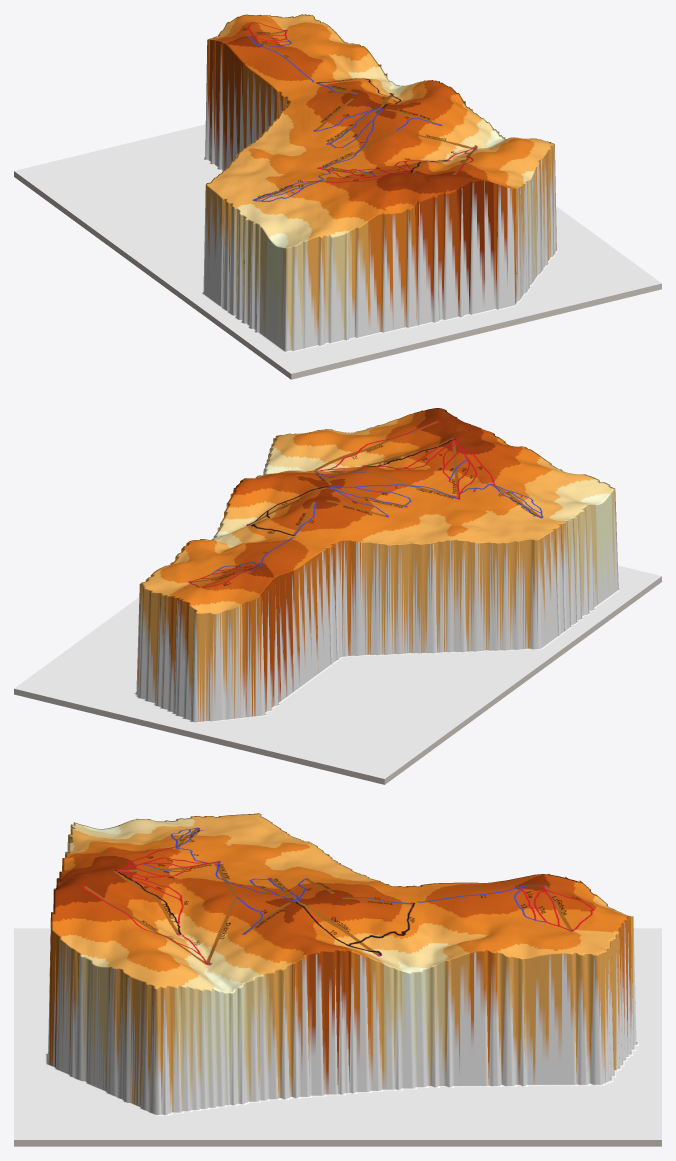
Rendered from 3D DEM.gltf.
The picture shows the model from 3 angles, top to bottom: view 1: azimuth 30°, elevation 25°; view 2: azimuth 150°, elevation 25°; view 3: azimuth 270°, elevation 25°; orthographic projection. The views are drawn at different scales.
Visible parts, largest first — view 1: DEM Kop, side (×2); view 2: DEM Kop, side (×2); view 3: DEM Kop, side.
Part boxes in pixels (x1,y1,x2,y2): DEM Kop: (14, 14, 661, 373); side (×2): (14, 171, 661, 379); DEM Kop: (14, 408, 661, 778); side (×2): (14, 576, 661, 784); DEM Kop: (14, 813, 661, 1139); side: (14, 1140, 661, 1146).
Bounding box in the file's own units: 100 × 35.39 × 129.
Materials: 2 (1 with a texture image).
